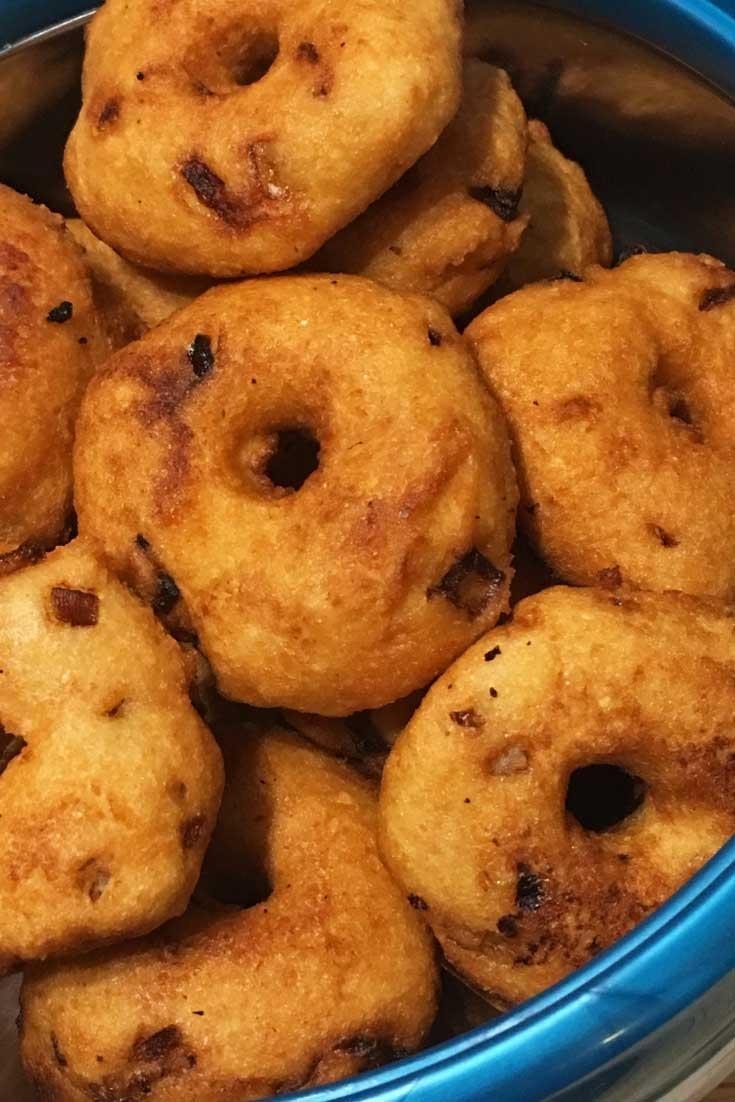mvada: (0, 224, 654, 885)
